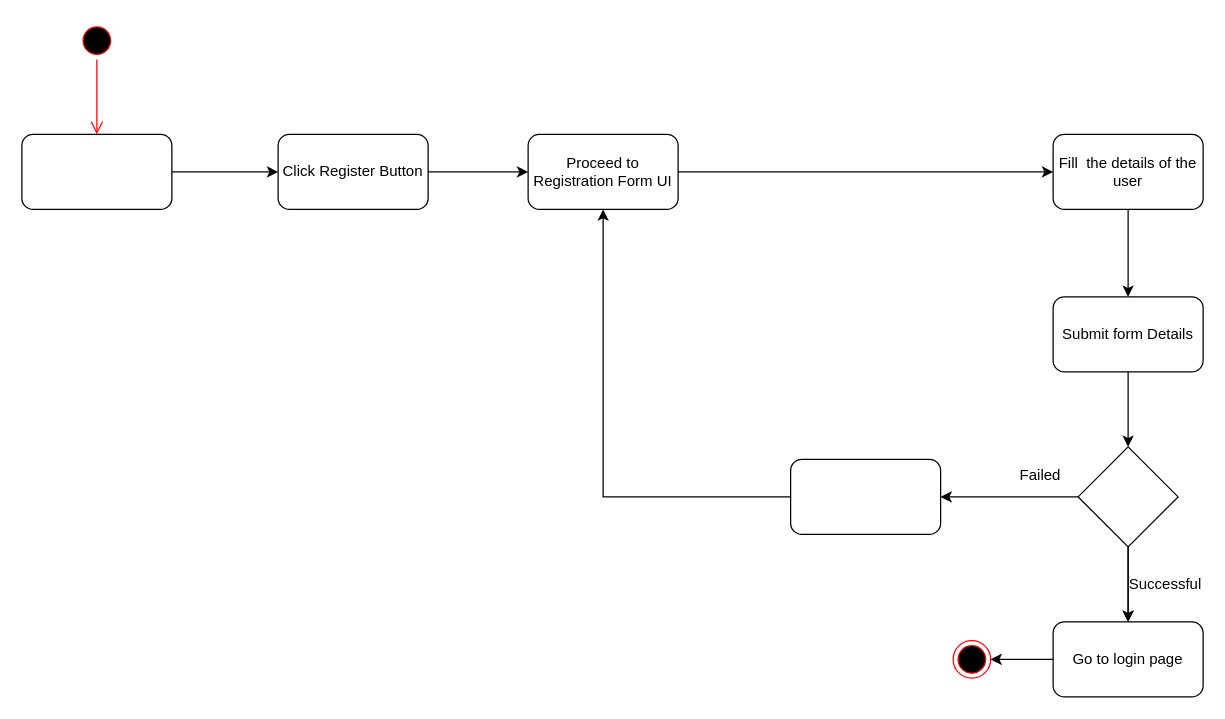
Some shapes in this 1225 by 719 pixel diagram are drawn without their labels. Here are the shapes that lost their labels. From the top down, the centre of each, then its label:
At pixel 96 171: "Go to Web Application UI".
At pixel 865 496: "Show Error Message".
At pixel 1127 496: "Form Validation".
